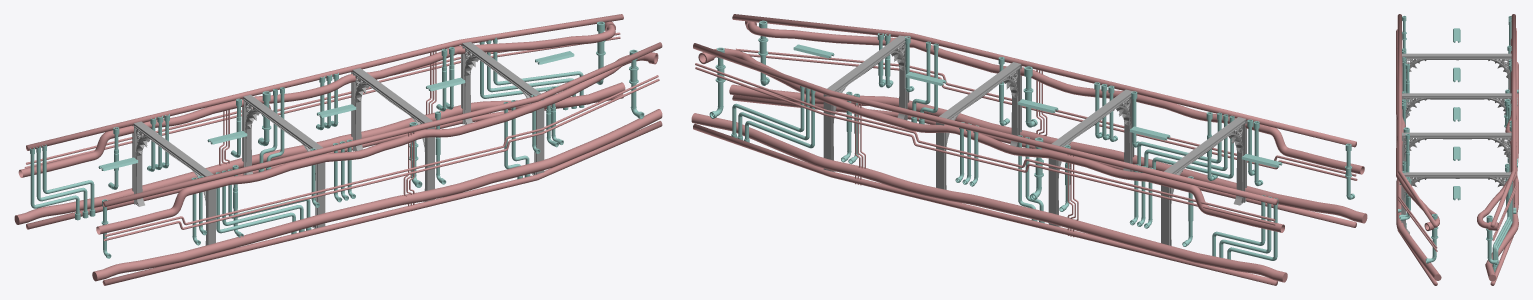
The model's file is [Grouped] Corridor_Props.fbx.
The picture shows the model from 3 angles, left to right: view 1: azimuth 30°, elevation 25°; view 2: azimuth 150°, elevation 25°; view 3: azimuth 270°, elevation 25°; orthographic projection. The views are drawn at different scales.
Visible parts, largest first — view 1: Frame_Outer (×4), Pipe_Big_1_low, Pipe_Big_2_low, Pipe_Big_4_low, Pipe_Big_3_low, Pipe_4_low, Pipe_2_low, Pipe_1_low, Pipe_Horizontal_Small_1_low, Frame_Inner (×4), Pipe_Horizontal_Small_2_low, Pipe_Vertical_Curved_4_low (+7 smaller); view 2: Frame_Outer (×4), Pipe_Big_3_low, Pipe_Big_4_low, Pipe_Big_2_low, Pipe_Big_1_low, Pipe_4_low, Pipe_2_low, Pipe_3_low, Pipe_Horizontal_Small_2_low, Frame_Inner (×4), Pipe_Horizontal_Small_1_low, Pipe_Vertical_Curved_7_low (+8 smaller); view 3: Frame_Outer (×4), Frame_Inner (×4), Pipe_2_low, Pipe_4_low, Pipe_Big_3_low, Pipe_Big_4_low, Pipe_Big_1_low, Pipe_Big_2_low, Frame_Motif (×4), Pipe_Vertical_Curved_7_low, Pipe_Horizontal_Small_1_low, Pipe_Vertical_Big_5_low (+16 smaller).
Boxes of the visible parts, box(x1,y1,x2,y2) form: Frame_Outer (×4): box(132, 42, 544, 245); Pipe_Big_1_low: box(92, 109, 662, 281); Pipe_Big_2_low: box(96, 52, 658, 234); Pipe_Big_4_low: box(18, 21, 615, 177); Pipe_Big_3_low: box(14, 82, 625, 224); Pipe_4_low: box(26, 14, 623, 150); Pipe_2_low: box(102, 42, 662, 207); Pipe_1_low: box(102, 121, 662, 285); Pipe_Horizontal_Small_1_low: box(103, 75, 659, 241); Frame_Inner (×4): box(135, 56, 534, 245); Pipe_Horizontal_Small_2_low: box(24, 32, 620, 168); Pipe_Vertical_Curved_4_low: box(30, 144, 95, 220); Frame_Outer (×4): box(823, 35, 1246, 245); Pipe_Big_3_low: box(691, 113, 1287, 282); Pipe_Big_4_low: box(698, 48, 1284, 232); Pipe_Big_2_low: box(745, 21, 1364, 174); Pipe_Big_1_low: box(729, 84, 1367, 223); Pipe_4_low: box(693, 43, 1277, 204); Pipe_2_low: box(732, 14, 1356, 147); Pipe_3_low: box(693, 124, 1277, 285); Pipe_Horizontal_Small_2_low: box(695, 63, 1275, 225); Frame_Inner (×4): box(833, 50, 1243, 245); Pipe_Horizontal_Small_1_low: box(735, 48, 1357, 180); Pipe_Vertical_Curved_7_low: box(731, 86, 815, 148); Frame_Outer (×4): box(1401, 53, 1513, 227); Frame_Inner (×4): box(1404, 59, 1510, 233); Pipe_2_low: box(1397, 14, 1437, 227); Pipe_4_low: box(1490, 14, 1515, 227); Pipe_Big_3_low: box(1485, 62, 1518, 281); Pipe_Big_4_low: box(1477, 31, 1516, 230); Pipe_Big_1_low: box(1396, 118, 1441, 280); Pipe_Big_2_low: box(1396, 29, 1439, 230); Frame_Motif (×4): box(1404, 59, 1510, 195); Pipe_Vertical_Curved_7_low: box(1492, 181, 1512, 272); Pipe_Horizontal_Small_1_low: box(1398, 180, 1437, 251); Pipe_Vertical_Big_5_low: box(1486, 215, 1498, 264).
Bounding box in the file's own units: 2315 × 325 × 563.
